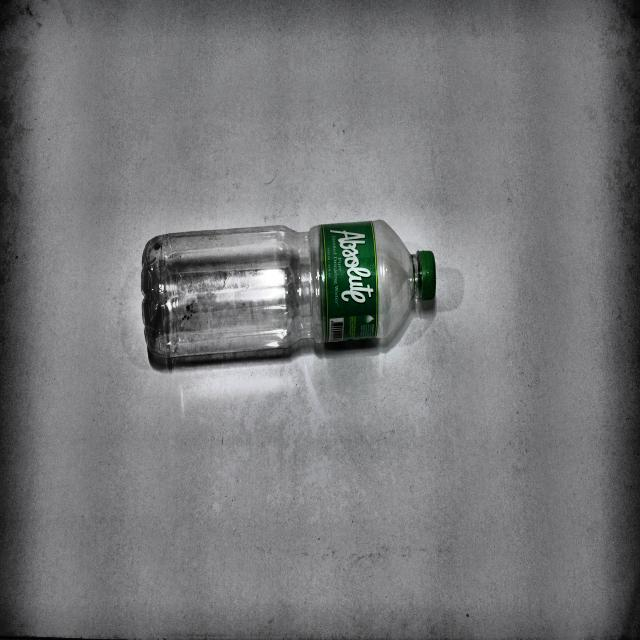Bottles: (136, 216, 446, 363)
